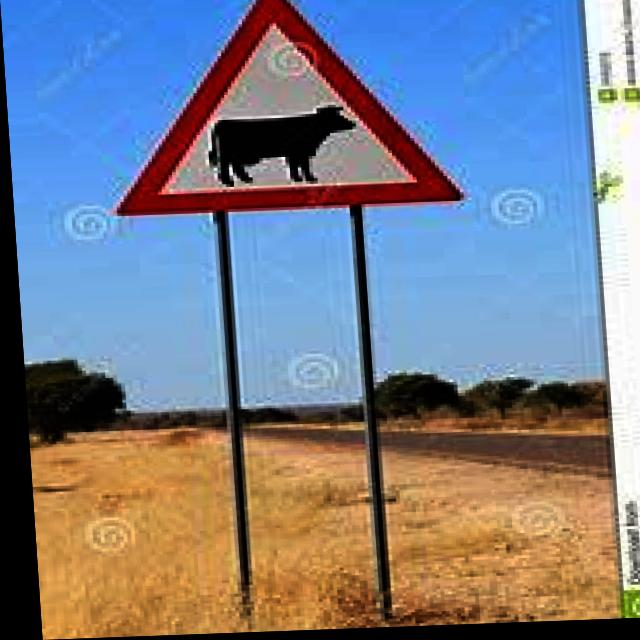CATTLE: (95, 0, 457, 217)
